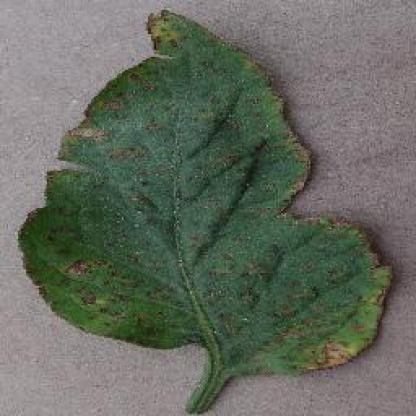bad leaf: (19, 0, 379, 415)
